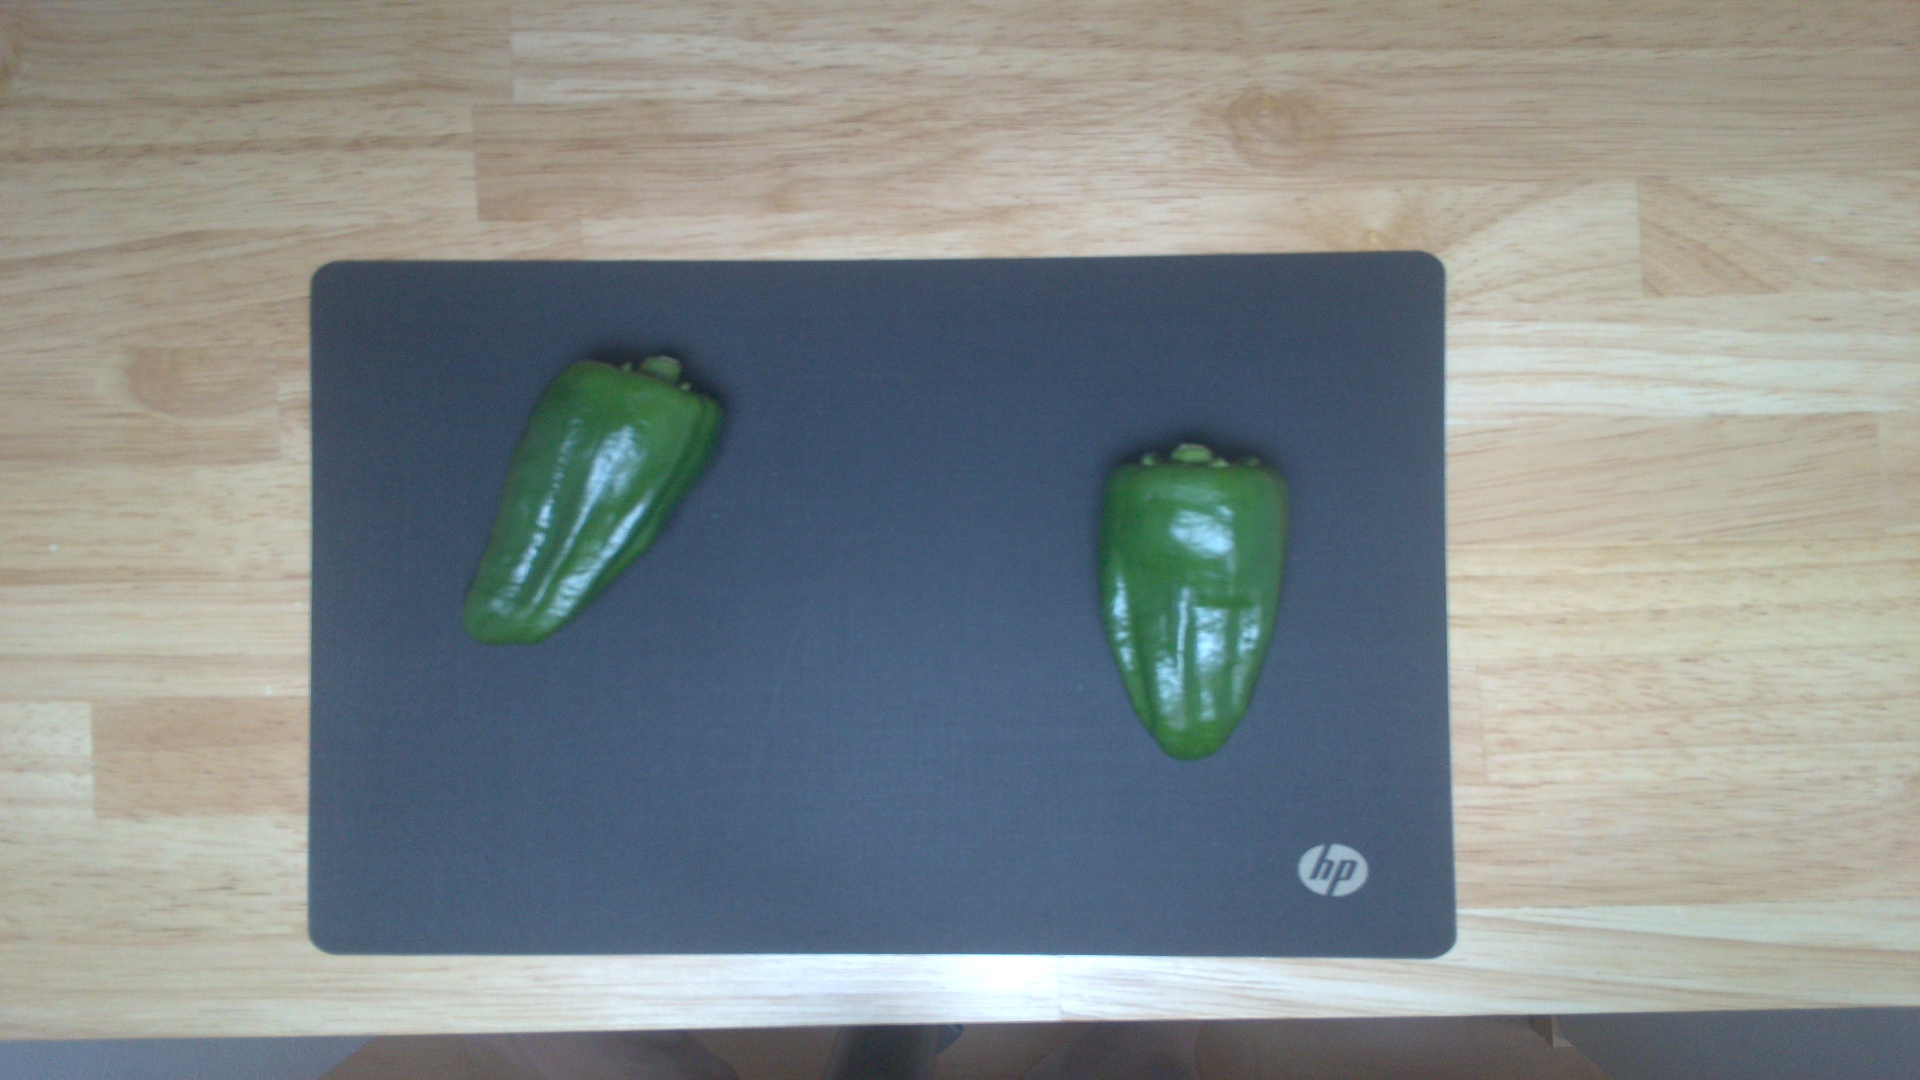Piman: (456, 349, 732, 645), (1091, 436, 1295, 761)
